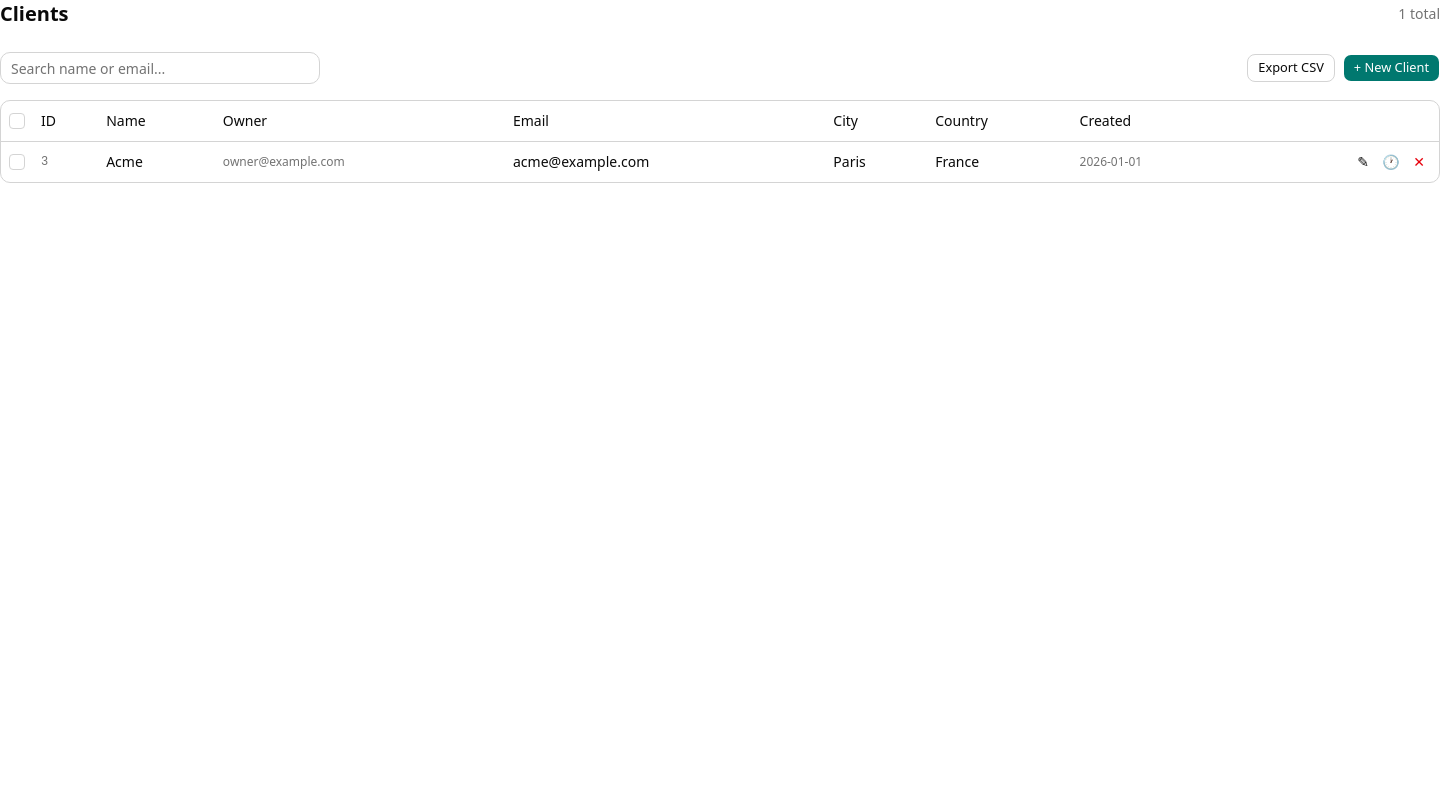
Test: AdminClientsTable › cancels the Edit dialog without saving
The image size is (1440, 810).
Expected: the text "Acme" is shown, [98,141,215,182]
Click the button named "Edit". click: (1363, 162)
box: [1351,150,1375,174]
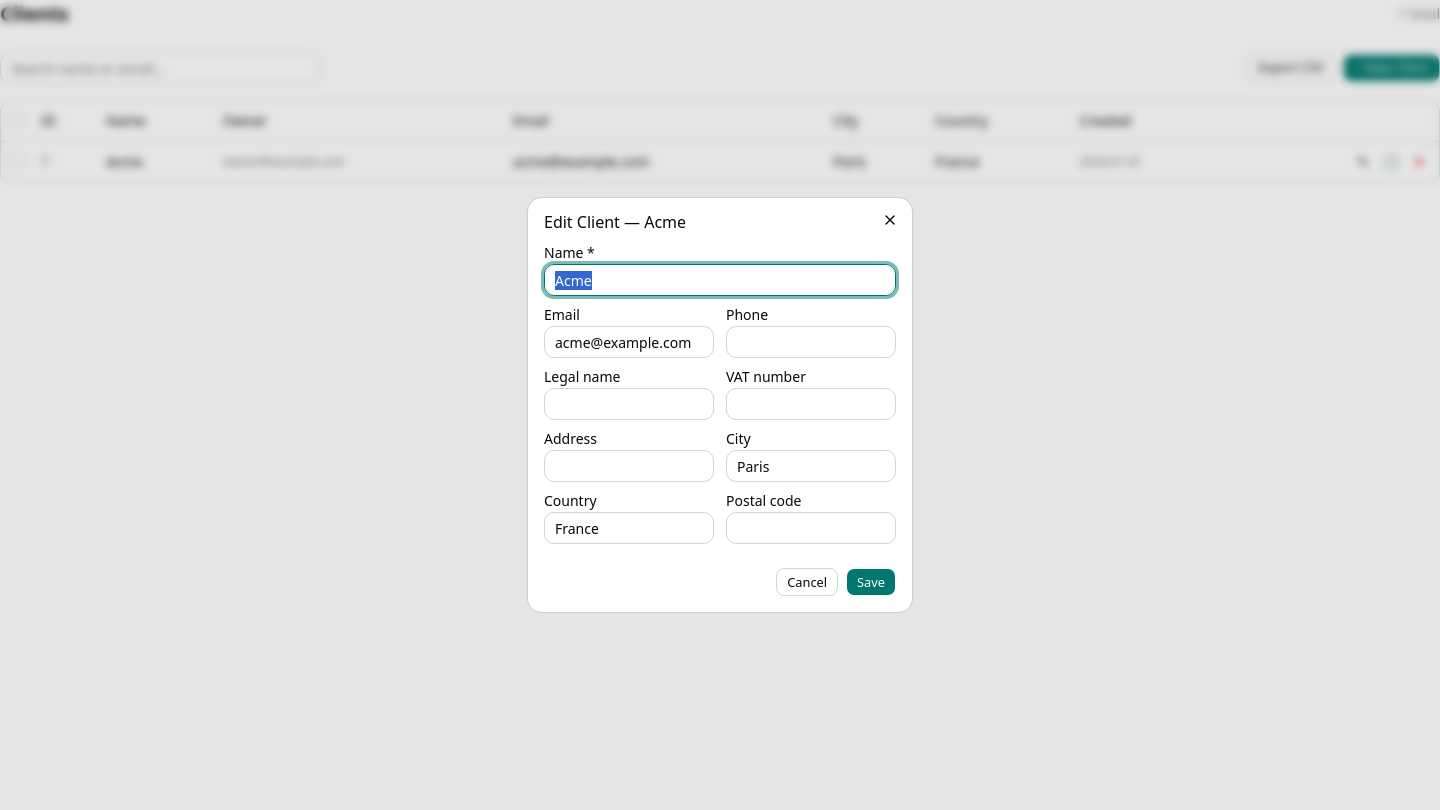
Click the button "Cancel". click: (807, 582)
box: [776,568,838,596]
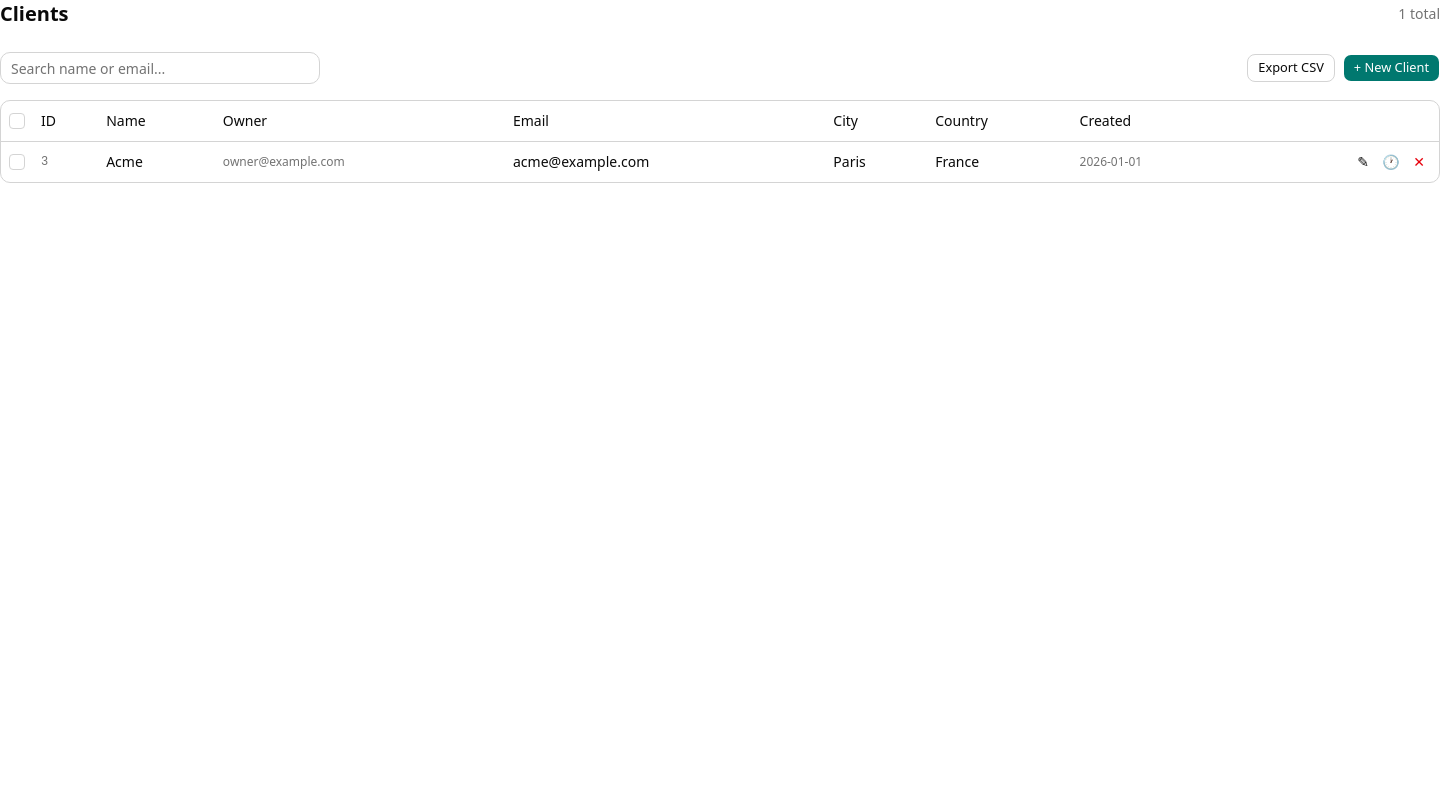
Expected: the button "Save" is gone
